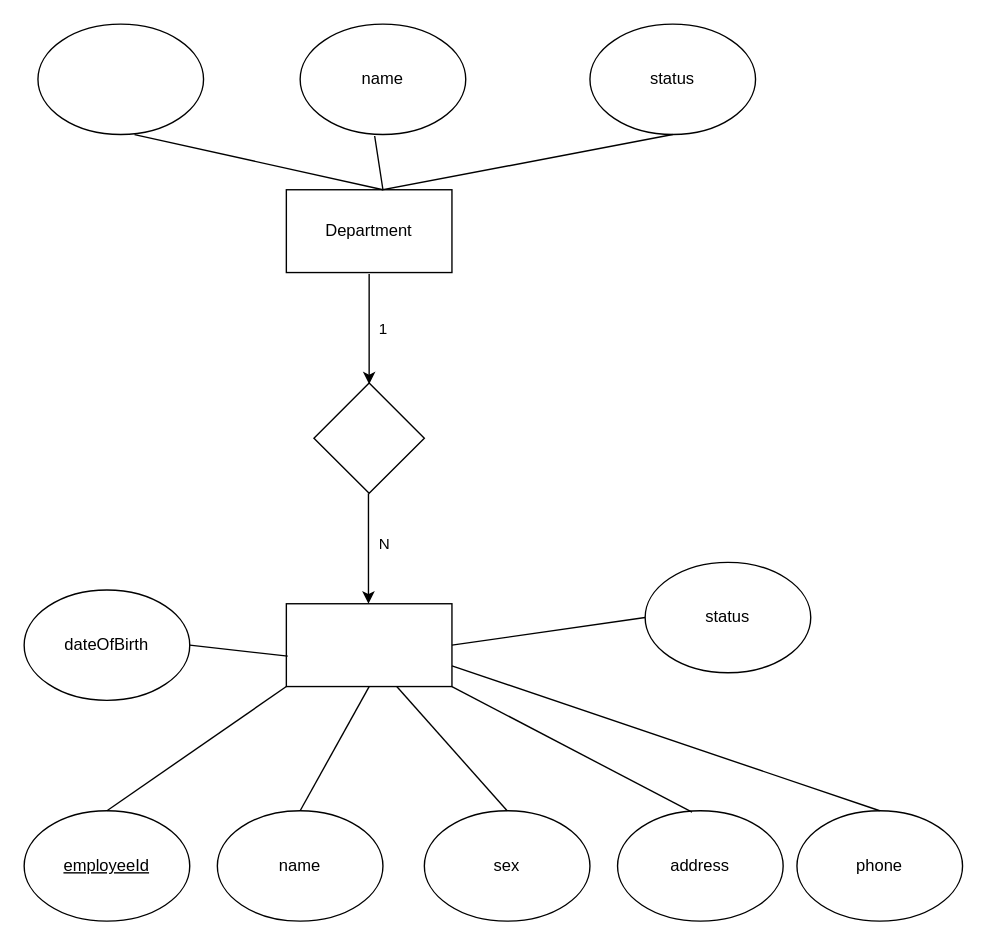
The diagram is 987 pixels wide and 945 high, and some of its shapes have lost their labels. The shapes that lost their labels are listed below. From the top down, each one's centre as x and y in pixels, then its label:
point (120, 79): departmentId
point (368, 437): Có
point (368, 644): Employee
